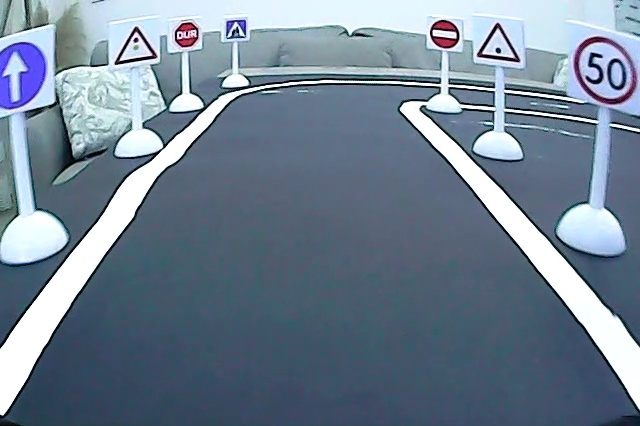do not enter: (428, 18, 463, 51)
green light: (474, 19, 524, 66)
red light: (112, 22, 158, 67)
school crossing: (224, 18, 248, 41)
speed limit 50: (571, 34, 639, 107)
stop sign: (172, 18, 203, 51)
